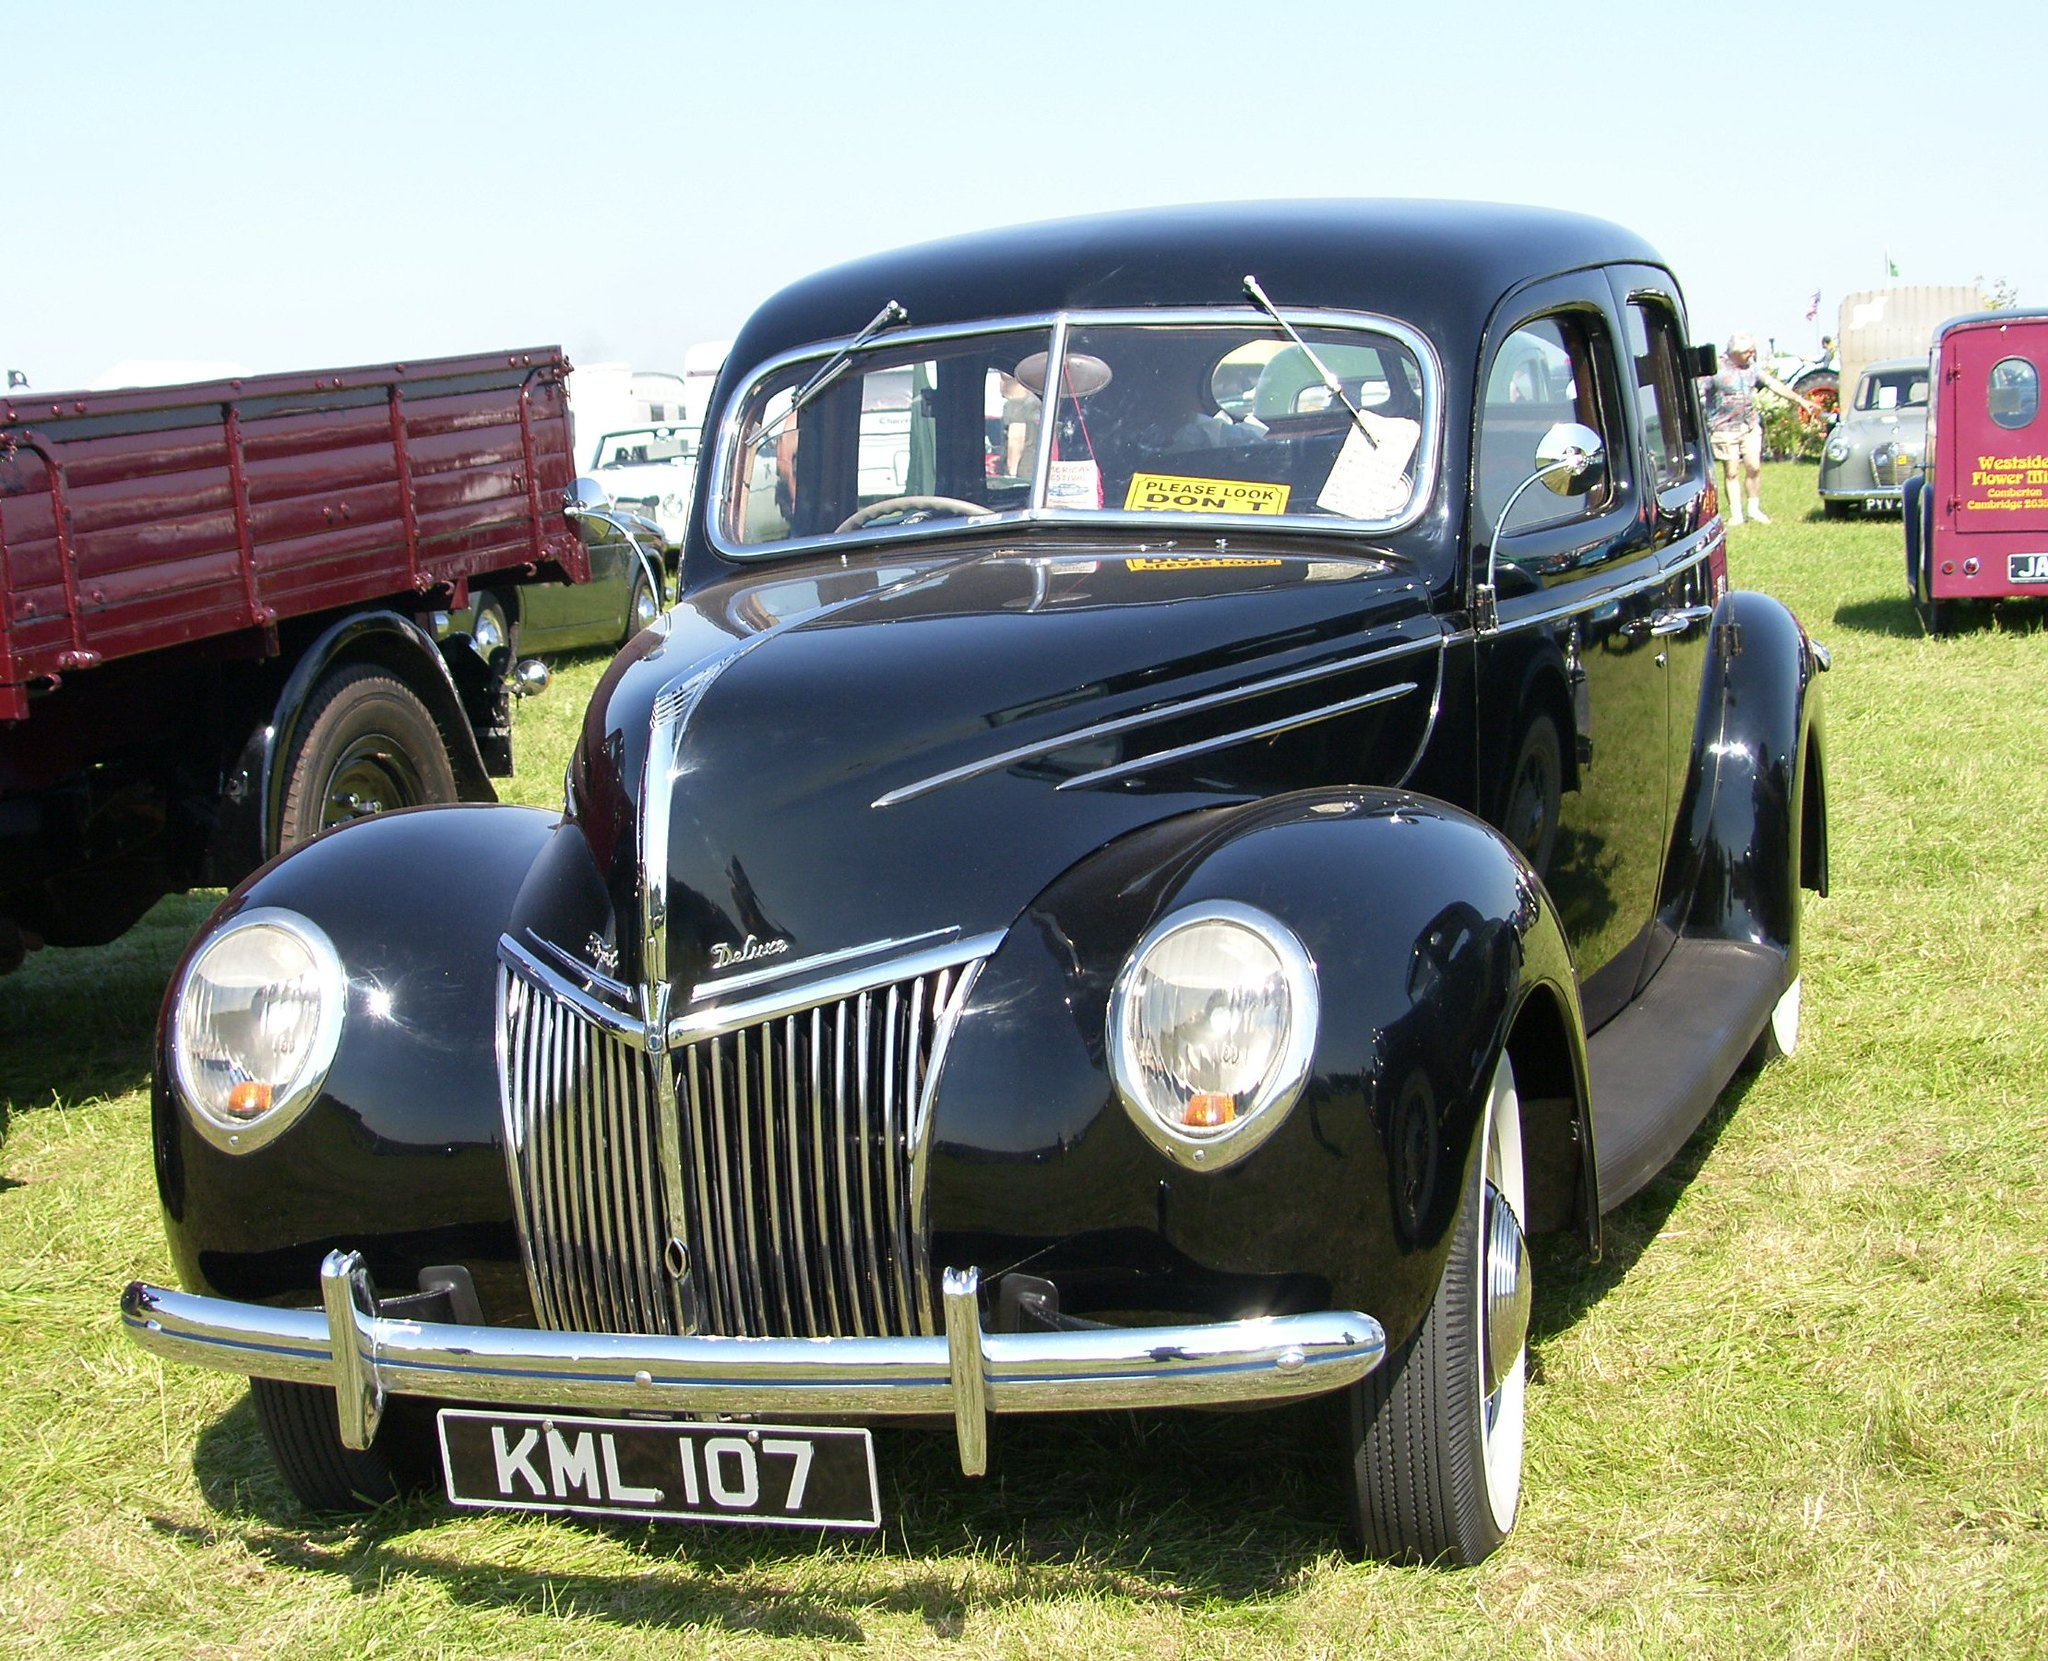car: (110, 171, 1892, 1576), (1844, 350, 1972, 530)
man: (1703, 325, 1808, 540)
